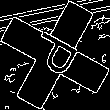P_SE: (24, 26, 86, 84)
